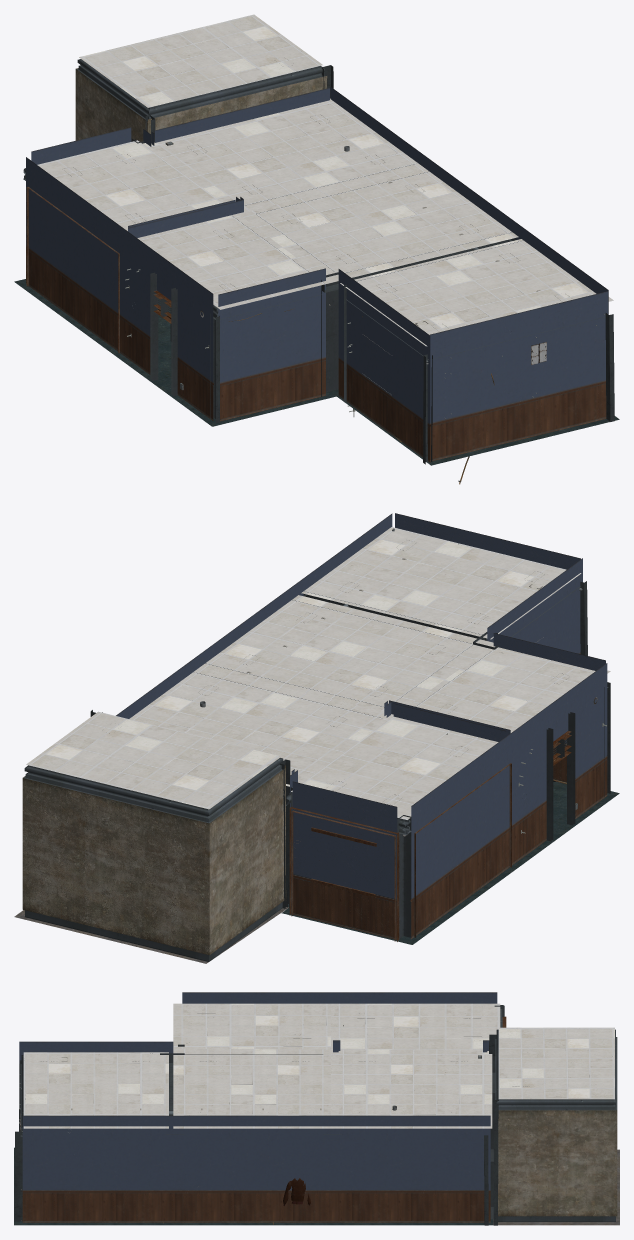
The picture shows the model from 3 angles, top to bottom: view 1: azimuth 30°, elevation 25°; view 2: azimuth 150°, elevation 25°; view 3: azimuth 270°, elevation 25°; orthographic projection. The views are drawn at different scales.
Parts seen in each view (by area): view 1: LOD_1_Group_0_Sub_1__st4_Police2fLeftWall02, LOD_1_Group_0_Sub_5__st2_police2fLeftCeiling06, LOD_1_Group_0_Sub_8__st2_police2fLeftPillar03, LOD_1_Group_0_Sub_2__st2_police2fLeftWall01, LOD_1_Group_0_Sub_4__st2_police2fLeftFloor06, LOD_1_Group_0_Sub_7__st2_police2fLeftWindow01; view 2: LOD_1_Group_0_Sub_5__st2_police2fLeftCeiling06, LOD_1_Group_0_Sub_1__st4_Police2fLeftWall02, LOD_1_Group_0_Sub_2__st2_police2fLeftWall01, LOD_1_Group_0_Sub_8__st2_police2fLeftPillar03, LOD_1_Group_0_Sub_7__st2_police2fLeftWindow01, LOD_1_Group_0_Sub_4__st2_police2fLeftFloor06, LOD_1_Group_0_Sub_3__st2_police2fLeftFloor09; view 3: LOD_1_Group_0_Sub_5__st2_police2fLeftCeiling06, LOD_1_Group_0_Sub_1__st4_Police2fLeftWall02, LOD_1_Group_0_Sub_2__st2_police2fLeftWall01, LOD_1_Group_0_Sub_8__st2_police2fLeftPillar03, LOD_1_Group_0_Sub_4__st2_police2fLeftFloor06, LOD_1_Group_0_Sub_3__st2_police2fLeftFloor09, LOD_1_Group_0_Sub_12__st2_police2fLeftProps07.
Boxes of the visible parts, x1=… form: LOD_1_Group_0_Sub_1__st4_Police2fLeftWall02: x1=26, y1=86, x2=608, y2=462; LOD_1_Group_0_Sub_5__st2_police2fLeftCeiling06: x1=37, y1=14, x2=613, y2=346; LOD_1_Group_0_Sub_8__st2_police2fLeftPillar03: x1=23, y1=59, x2=614, y2=464; LOD_1_Group_0_Sub_2__st2_police2fLeftWall01: x1=75, y1=68, x2=327, y2=141; LOD_1_Group_0_Sub_4__st2_police2fLeftFloor06: x1=14, y1=279, x2=619, y2=465; LOD_1_Group_0_Sub_7__st2_police2fLeftWindow01: x1=26, y1=187, x2=171, y2=353; LOD_1_Group_0_Sub_5__st2_police2fLeftCeiling06: x1=26, y1=527, x2=610, y2=819; LOD_1_Group_0_Sub_1__st4_Police2fLeftWall02: x1=116, y1=513, x2=607, y2=939; LOD_1_Group_0_Sub_2__st2_police2fLeftWall01: x1=22, y1=765, x2=286, y2=955; LOD_1_Group_0_Sub_8__st2_police2fLeftPillar03: x1=24, y1=581, x2=610, y2=961; LOD_1_Group_0_Sub_7__st2_police2fLeftWindow01: x1=289, y1=731, x2=571, y2=941; LOD_1_Group_0_Sub_4__st2_police2fLeftFloor06: x1=281, y1=781, x2=619, y2=944; LOD_1_Group_0_Sub_3__st2_police2fLeftFloor09: x1=14, y1=907, x2=288, y2=963; LOD_1_Group_0_Sub_5__st2_police2fLeftCeiling06: x1=23, y1=1003, x2=614, y2=1128; LOD_1_Group_0_Sub_1__st4_Police2fLeftWall02: x1=19, y1=992, x2=497, y2=1222; LOD_1_Group_0_Sub_2__st2_police2fLeftWall01: x1=498, y1=1037, x2=617, y2=1216; LOD_1_Group_0_Sub_8__st2_police2fLeftPillar03: x1=14, y1=1005, x2=617, y2=1225; LOD_1_Group_0_Sub_4__st2_police2fLeftFloor06: x1=14, y1=1147, x2=493, y2=1225; LOD_1_Group_0_Sub_3__st2_police2fLeftFloor09: x1=493, y1=1149, x2=619, y2=1225; LOD_1_Group_0_Sub_12__st2_police2fLeftProps07: x1=198, y1=1178, x2=310, y2=1206.
Bounding box in the file's own units: 10.01 × 5.37 × 19.93.
